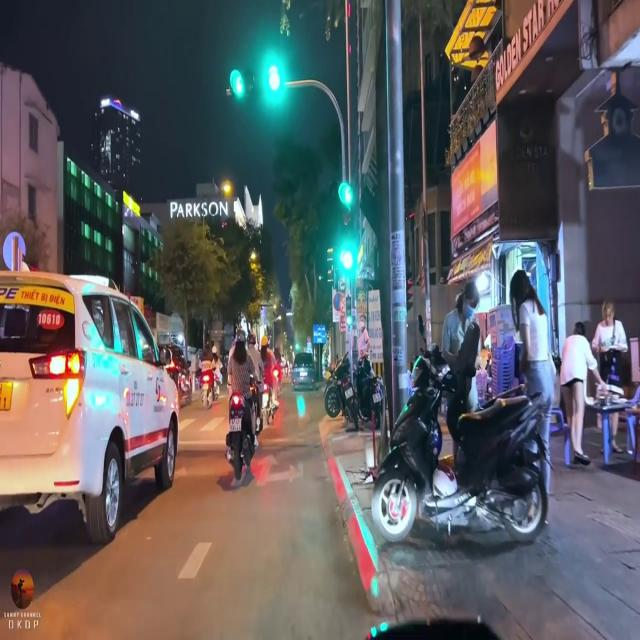bien_vang: (0, 375, 12, 415)
